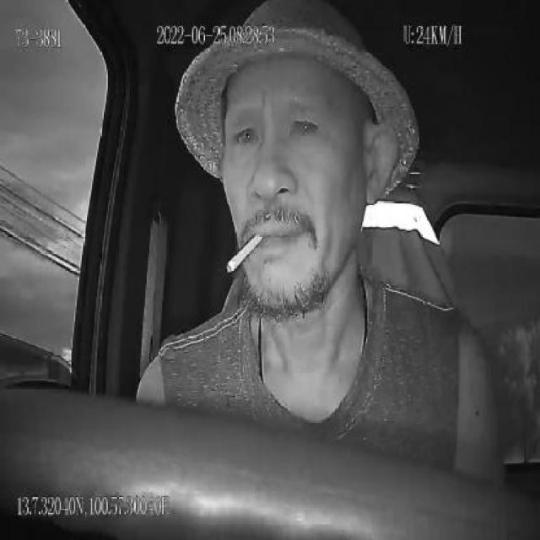smoking: (226, 230, 264, 276)
